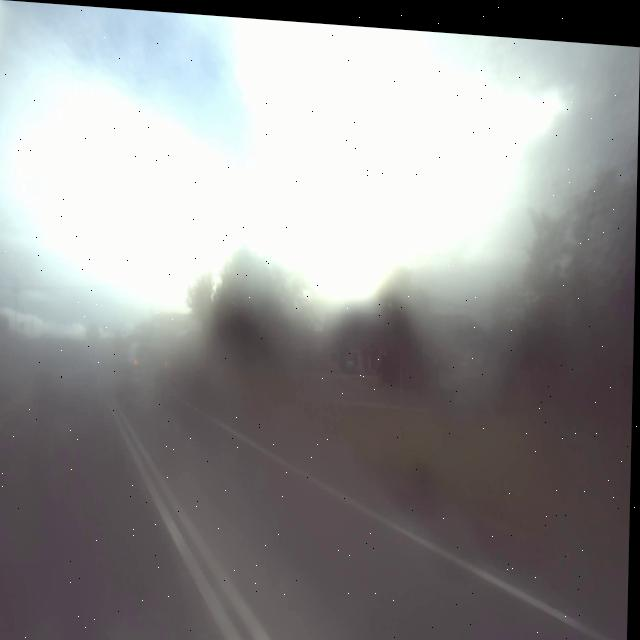car: (119, 328, 171, 391)
